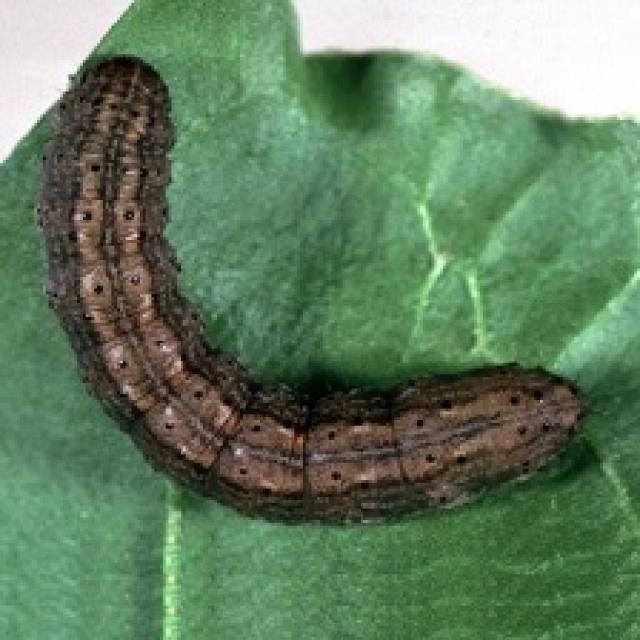Fall-armyworm: (49, 51, 593, 533)
